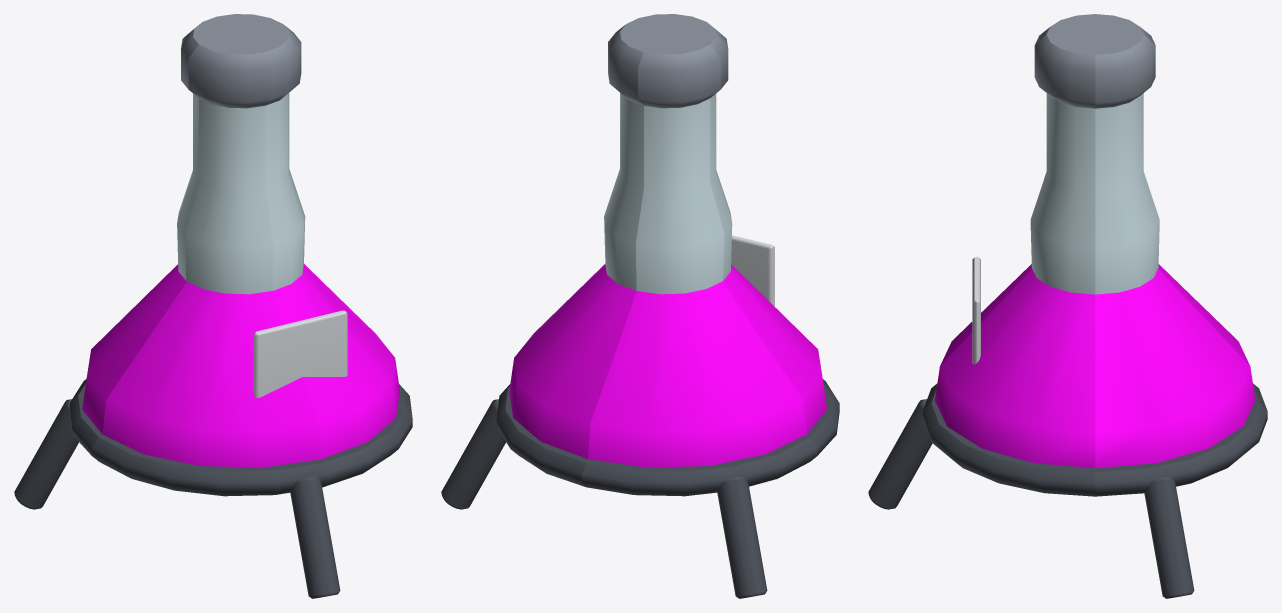
File: objet_science_2.glb
3 views of the same model, side by side, from view 1: azimuth 30°, elevation 25°; view 2: azimuth 150°, elevation 25°; view 3: azimuth 270°, elevation 25° (orthographic).
Visible parts, largest first — view 1: science_teinte.012, science_verre_flacon.010, science_metal_sci_sombre.010, science_metal_sci.006, science_blanc.004; view 2: science_teinte.012, science_verre_flacon.010, science_metal_sci_sombre.010, science_metal_sci.006, science_blanc.004; view 3: science_teinte.012, science_verre_flacon.010, science_metal_sci_sombre.010, science_metal_sci.006, science_blanc.004.
Part boxes in pixels (x1=…): science_teinte.012: x1=82, y1=264, x2=399, y2=467; science_verre_flacon.010: x1=177, y1=93, x2=305, y2=294; science_metal_sci_sombre.010: x1=14, y1=379, x2=412, y2=598; science_metal_sci.006: x1=181, y1=14, x2=301, y2=108; science_blanc.004: x1=253, y1=310, x2=347, y2=397; science_teinte.012: x1=509, y1=264, x2=826, y2=467; science_verre_flacon.010: x1=604, y1=93, x2=732, y2=294; science_metal_sci_sombre.010: x1=441, y1=379, x2=839, y2=598; science_metal_sci.006: x1=608, y1=14, x2=728, y2=108; science_blanc.004: x1=731, y1=235, x2=774, y2=306; science_teinte.012: x1=935, y1=264, x2=1255, y2=468; science_verre_flacon.010: x1=1030, y1=93, x2=1159, y2=294; science_metal_sci_sombre.010: x1=868, y1=383, x2=1267, y2=598; science_metal_sci.006: x1=1034, y1=14, x2=1155, y2=108; science_blanc.004: x1=972, y1=256, x2=980, y2=364.
Bounding box in the file's own units: 0.1845 × 0.2477 × 0.1852.
